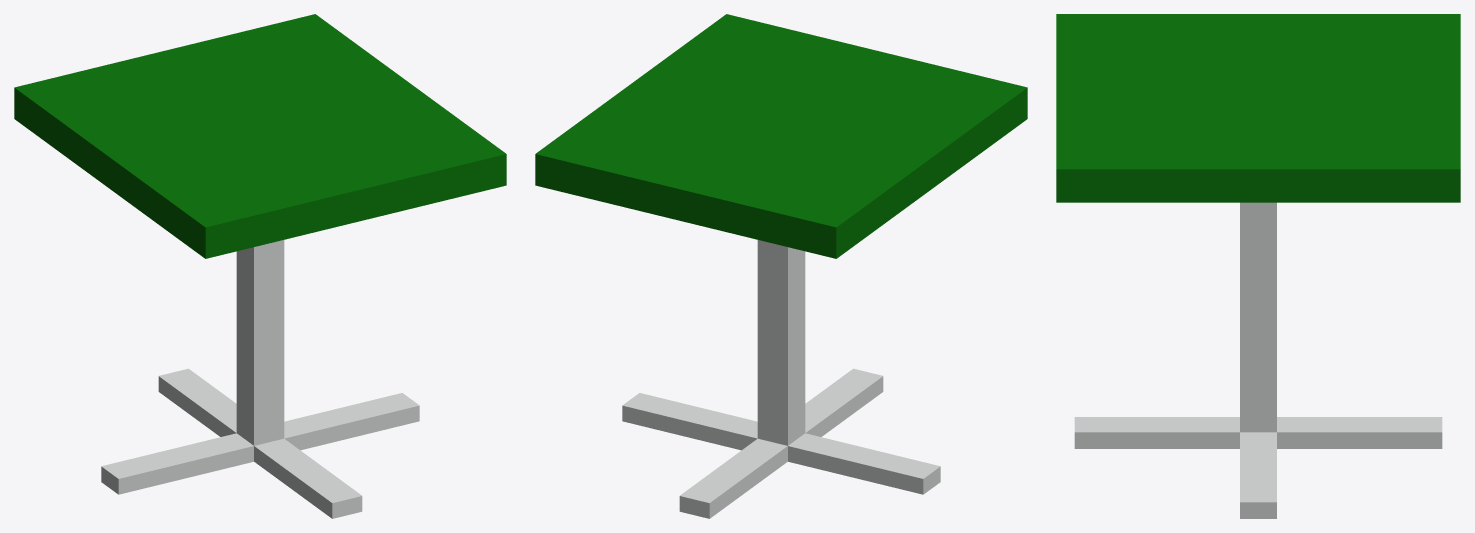
The model's file is voxeltable.dae.
The picture shows the model from 3 angles, left to right: view 1: azimuth 30°, elevation 25°; view 2: azimuth 150°, elevation 25°; view 3: azimuth 270°, elevation 25°; orthographic projection. The views are drawn at different scales.
Parts seen in each view (by area): view 1: Object_2; view 2: Object_2; view 3: Object_2.
Boxes of the visible parts, <box> form: Object_2: <box>14,14,506,518</box>; Object_2: <box>535,14,1027,518</box>; Object_2: <box>1056,14,1460,518</box>.
Bounding box in the file's own units: 0.7371 × 0.8108 × 0.774.
